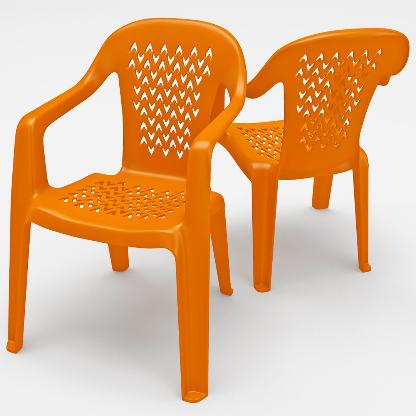chair: (0, 8, 240, 416), (230, 21, 415, 293)
